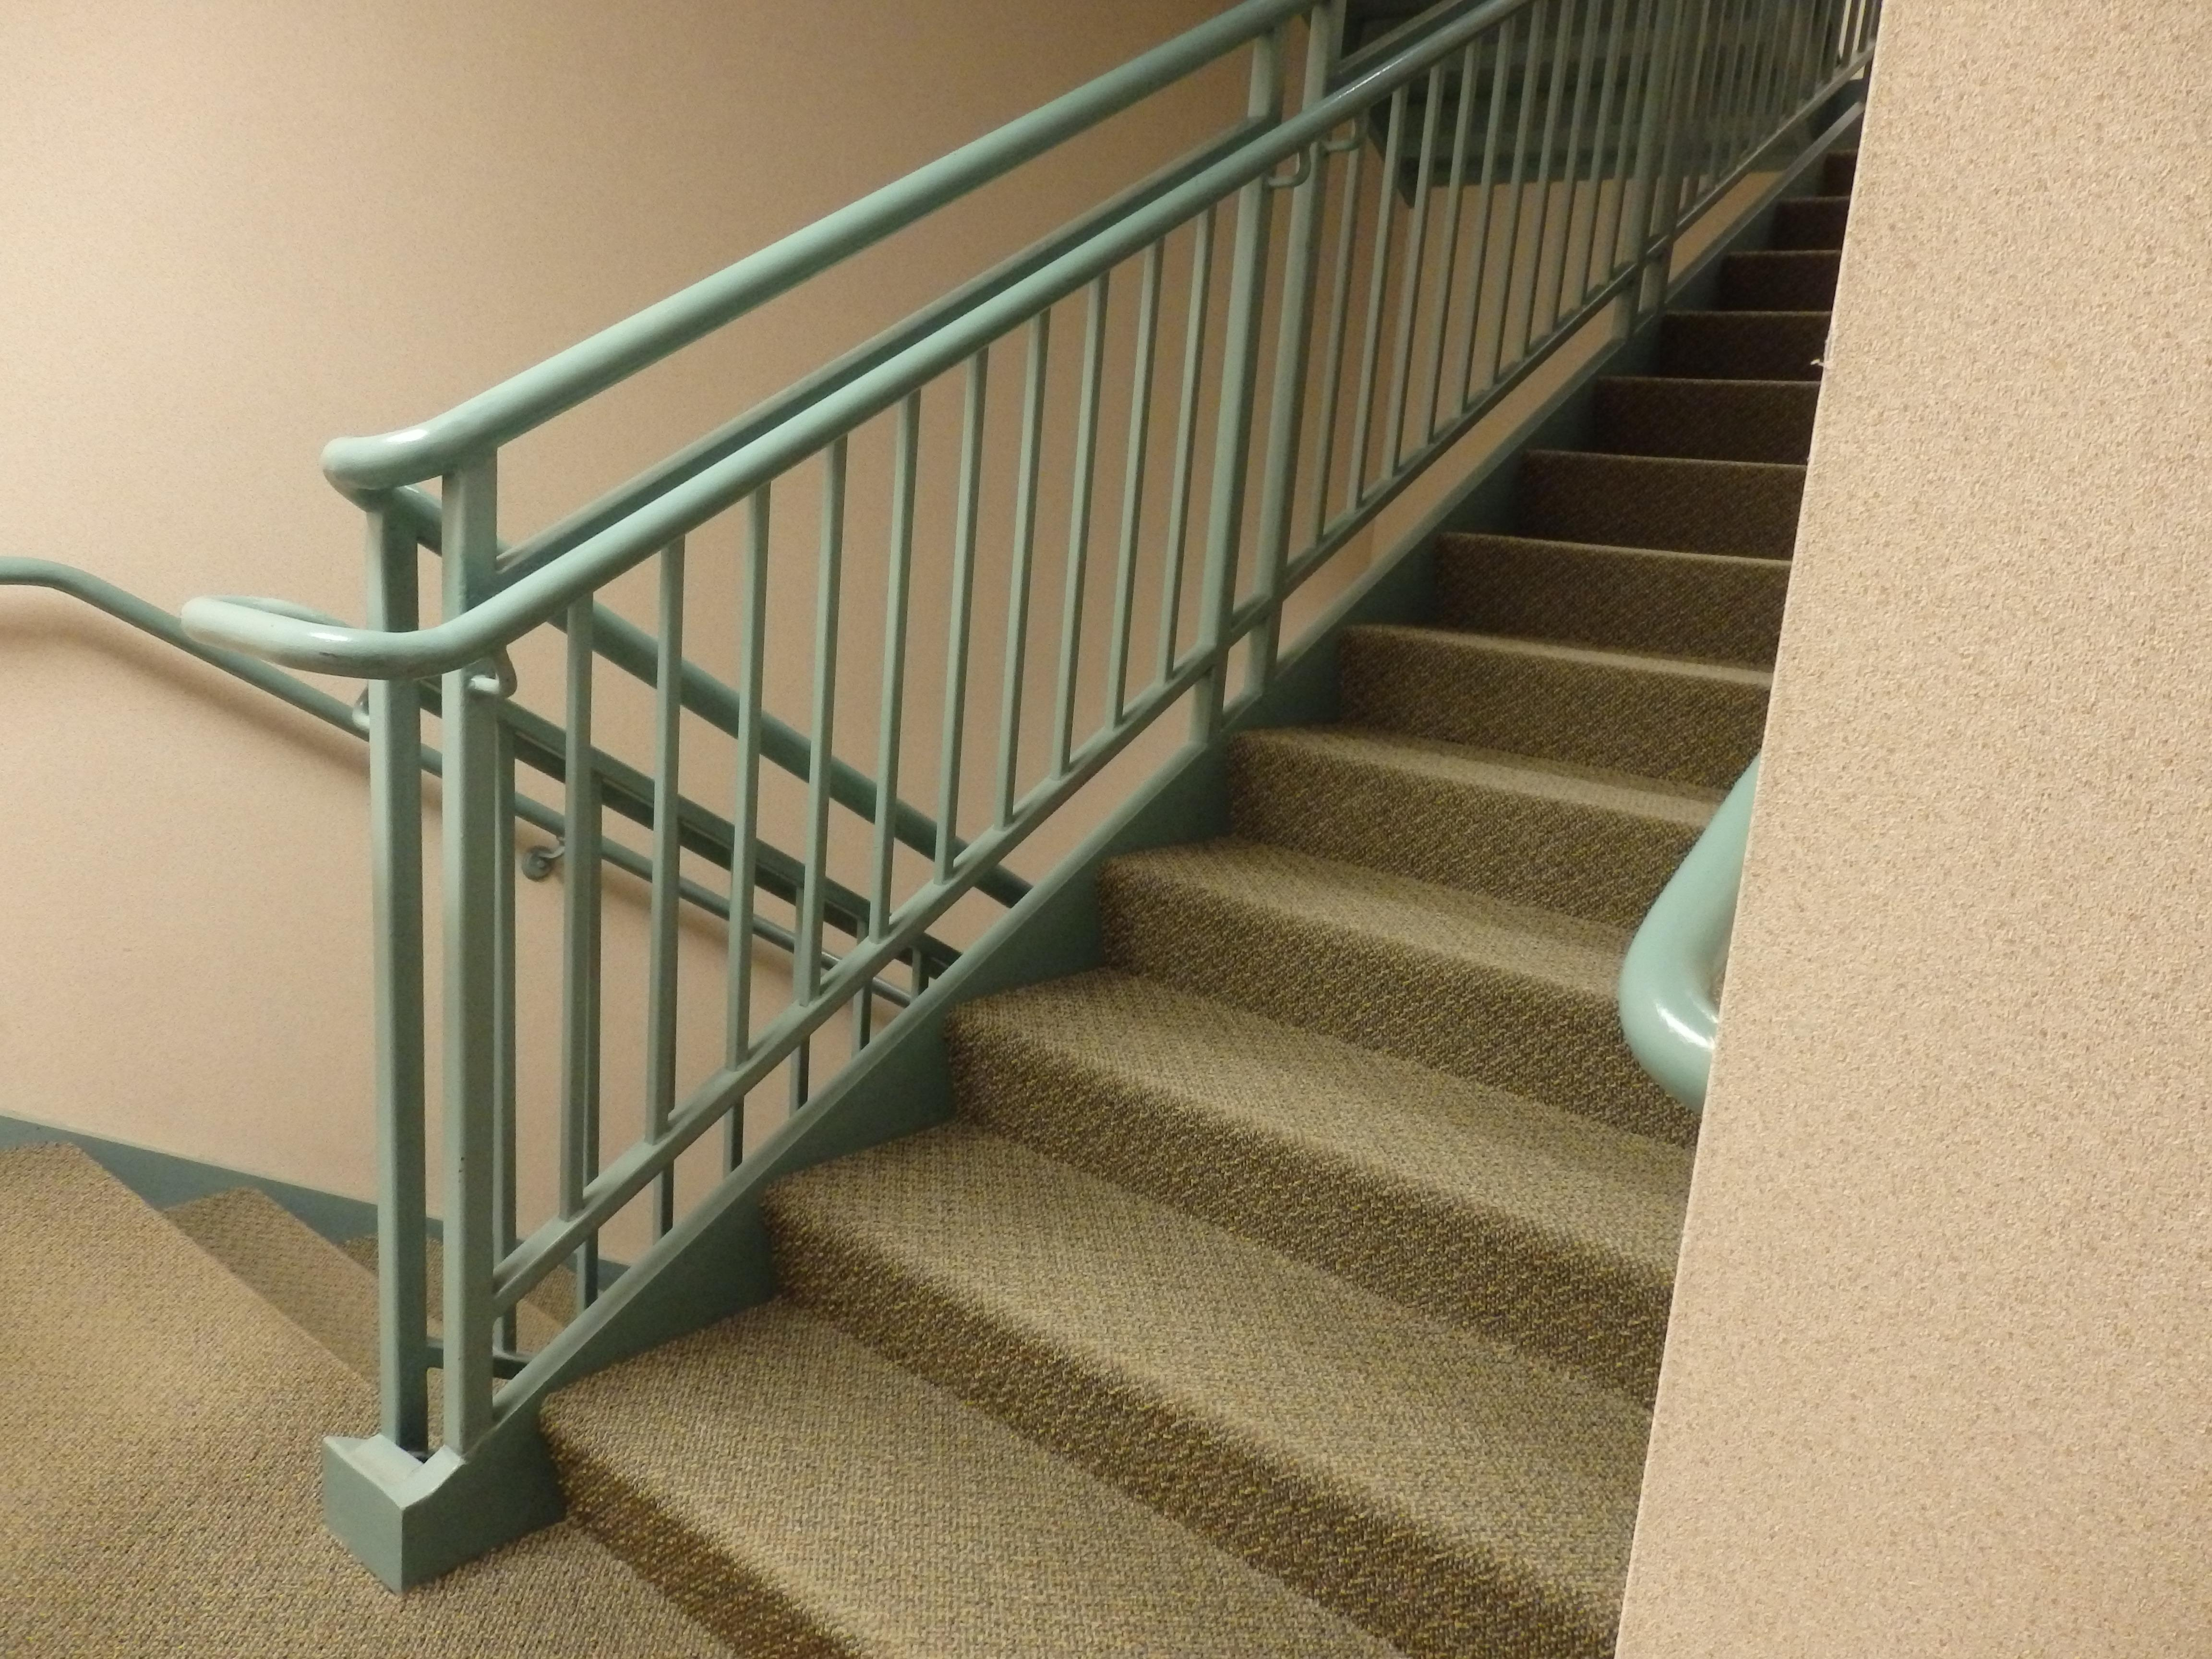stairs_up: (725, 319, 1820, 1642)
